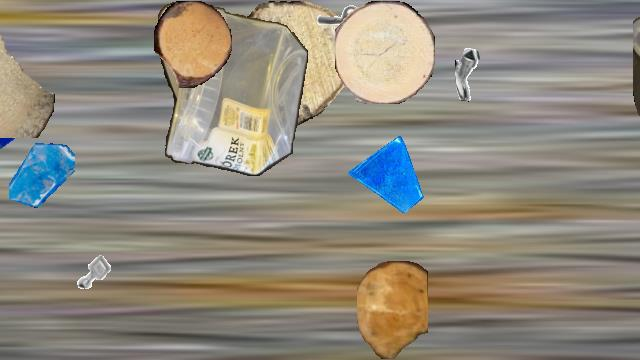glass: (348, 136, 424, 212), (9, 142, 75, 208), (0, 78, 30, 160)
metal: (302, 1, 364, 63), (455, 46, 511, 102), (69, 247, 119, 297)
plastic: (158, 1, 308, 175), (633, 1, 640, 169)
wood: (212, 1, 352, 127), (335, 1, 435, 103), (0, 8, 54, 138), (357, 261, 427, 359), (154, 1, 232, 87)
